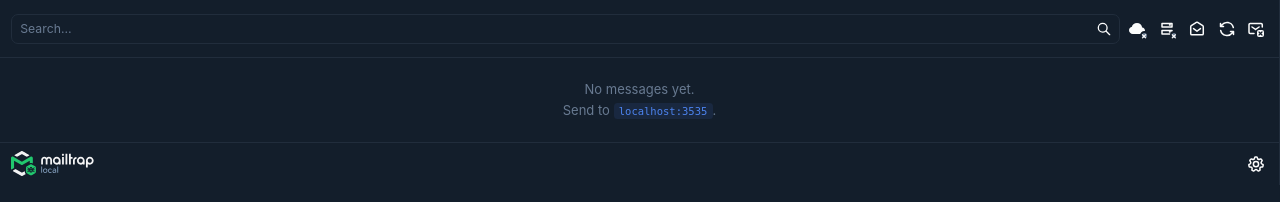
Sidebar › debounces search input and displays the server results
The width and height of the screenshot is (1280, 202).
Expected: the text "No messages yet." is shown, [584, 81, 694, 97]
In the field with placeholder "Search…": (565, 28) [10, 14, 1120, 44], type "welcome"
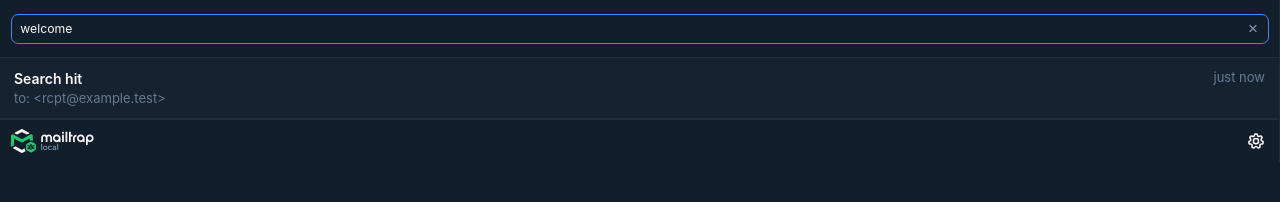
Result: the text "Search hit" is shown at [14, 70, 82, 86]
